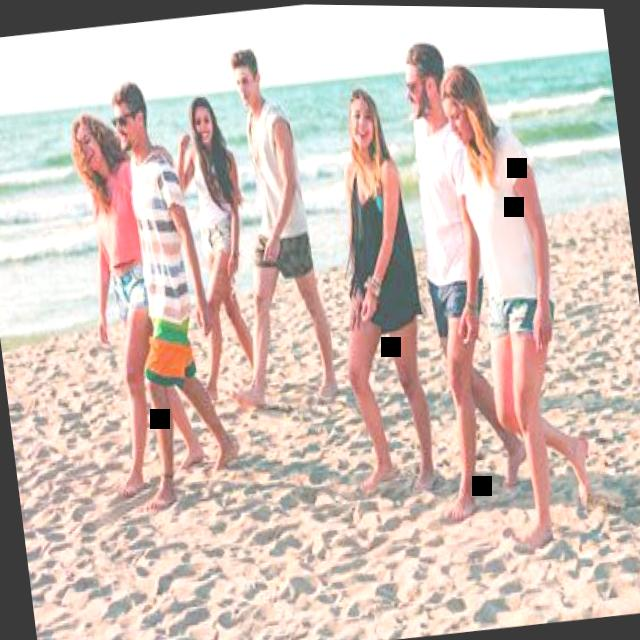NO-Mask: (439, 67, 490, 149), (402, 52, 446, 121), (110, 84, 152, 149), (344, 90, 382, 150), (73, 120, 109, 176), (232, 53, 264, 109), (187, 97, 219, 145)
